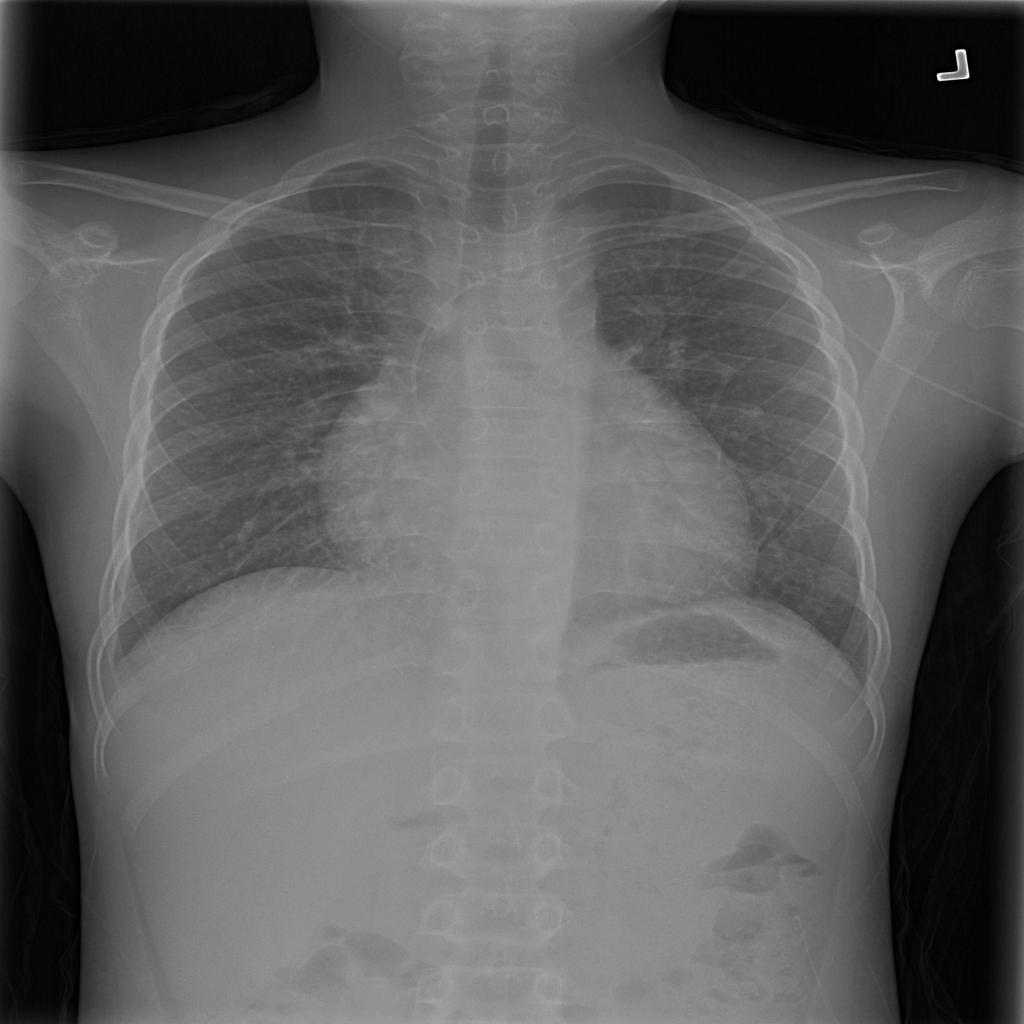Cardiomegaly: (322, 321, 761, 656)
